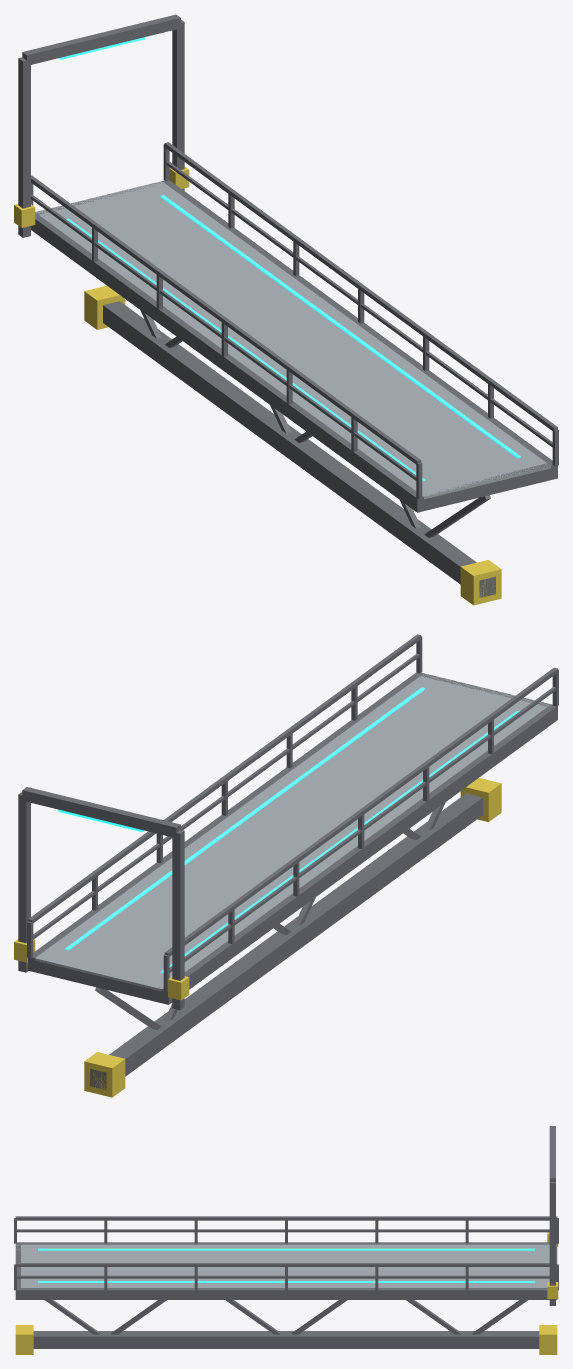
Rendered from scaffold_sprint_chute.glb.
3 views of the same model, one above another, from view 1: azimuth 30°, elevation 25°; view 2: azimuth 150°, elevation 25°; view 3: azimuth 270°, elevation 25° (orthographic). The views are drawn at different scales.
Visible parts, largest first — view 1: Deck_a, Spine, Frame_a_-1, Rail_a_1, Rail_a_-1, Frame_a_1, PortalLintel, MidRail_a_-1, MidRail_a_1, PortalPost_-1, Header_a_1, Lane_1 (+4 smaller); view 2: Deck_a, Spine, Frame_a_-1, Rail_a_-1, Rail_a_1, Frame_a_1, PortalLintel, MidRail_a_-1, MidRail_a_1, PortalPost_-1, PortalPost_1, Lane_1 (+5 smaller); view 3: Deck_a, Spine, Frame_a_1, Rail_a_-1, Rail_a_1, MidRail_a_-1, MidRail_a_1, Frame_a_-1, Lane_-1, Lane_1, PortalPost_1, Collar_0 (+8 smaller).
Boxes of the visible parts, left/top/right/bottom form: Deck_a: left=35, top=181, right=550, bottom=499; Spine: left=103, top=301, right=495, bottom=597; Frame_a_-1: left=31, top=213, right=423, bottom=512; Rail_a_1: left=164, top=142, right=557, bottom=430; Rail_a_-1: left=31, top=175, right=421, bottom=464; Frame_a_1: left=162, top=180, right=557, bottom=479; PortalLintel: left=22, top=14, right=180, bottom=64; MidRail_a_-1: left=31, top=194, right=416, bottom=480; MidRail_a_1: left=166, top=161, right=552, bottom=447; PortalPost_-1: left=18, top=57, right=30, bottom=237; Header_a_1: left=413, top=462, right=554, bottom=512; Lane_1: left=160, top=195, right=520, bottom=458; Deck_a: left=35, top=673, right=550, bottom=991; Spine: left=90, top=793, right=482, bottom=1089; Frame_a_-1: left=162, top=705, right=556, bottom=1004; Rail_a_-1: left=164, top=667, right=557, bottom=956; Rail_a_1: left=28, top=634, right=421, bottom=923; Frame_a_1: left=28, top=672, right=423, bottom=972; PortalLintel: left=22, top=787, right=180, bottom=837; MidRail_a_-1: left=169, top=687, right=555, bottom=972; MidRail_a_1: left=33, top=653, right=419, bottom=939; PortalPost_-1: left=172, top=830, right=184, bottom=1010; PortalPost_1: left=18, top=792, right=30, bottom=972; Lane_1: left=65, top=687, right=425, bottom=950; Deck_a: left=16, top=1244, right=549, bottom=1287; Spine: left=33, top=1331, right=539, bottom=1348; Frame_a_1: left=15, top=1288, right=549, bottom=1299; Rail_a_-1: left=15, top=1216, right=557, bottom=1220; Rail_a_1: left=15, top=1263, right=557, bottom=1266; MidRail_a_-1: left=17, top=1229, right=549, bottom=1232; MidRail_a_1: left=17, top=1275, right=549, bottom=1278; Frame_a_-1: left=17, top=1242, right=549, bottom=1244; Lane_-1: left=38, top=1248, right=534, bottom=1250; Lane_1: left=38, top=1281, right=534, bottom=1282; PortalPost_1: left=549, top=1182, right=555, bottom=1305; Collar_0: left=539, top=1325, right=557, bottom=1354.
Bounding box in the file's own units: 2.98 × 4.84 × 12.07.
